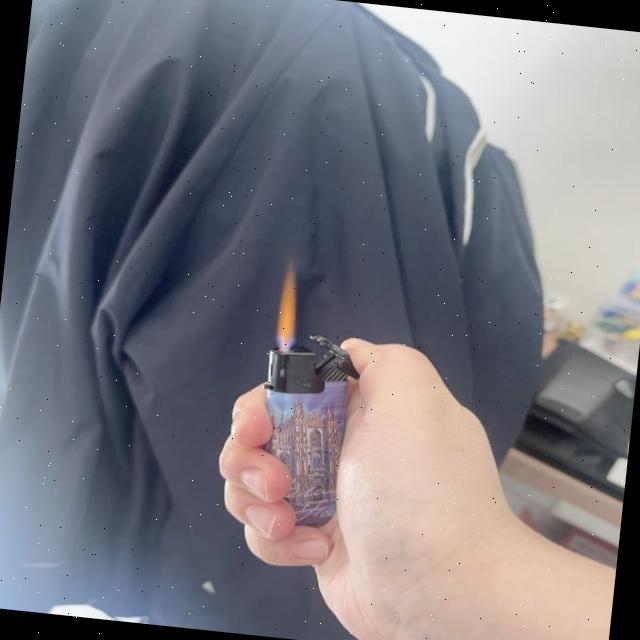fire: (270, 260, 304, 354)
